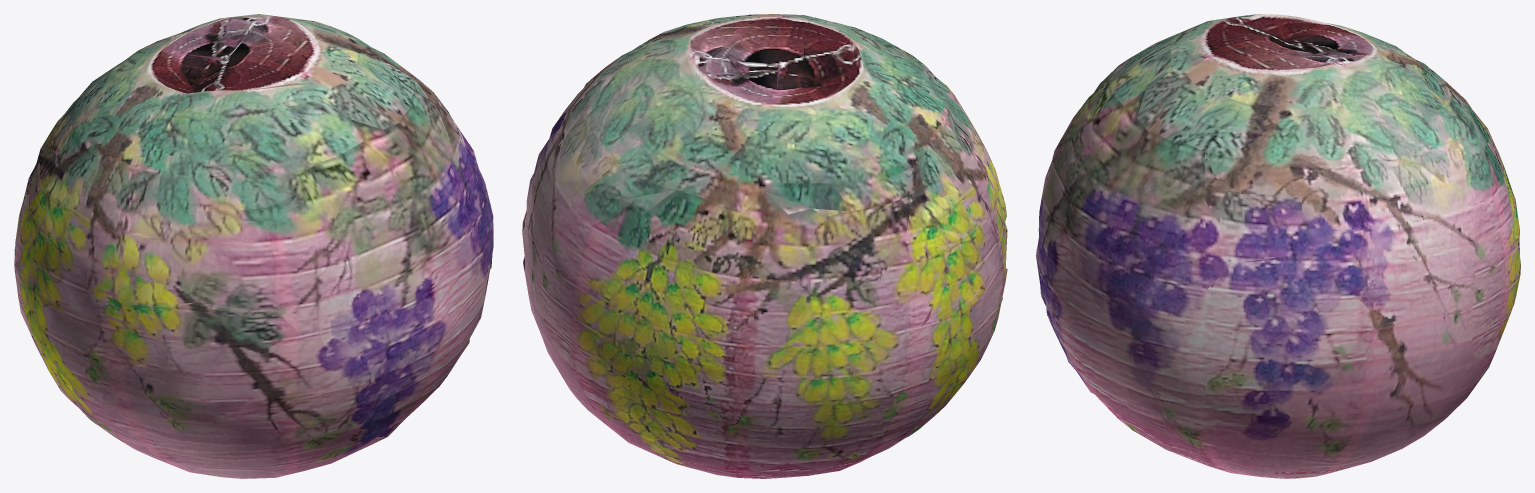
File: AT3 Jolex Ciara Grapes.glb
3 renders of one model, left to right at view 1: azimuth 30°, elevation 25°; view 2: azimuth 150°, elevation 25°; view 3: azimuth 270°, elevation 25°, orthographic.
Size of the model in its own units: 1000 by 938 by 996.
1 material, 1 textured.
